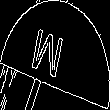M_S: (36, 24, 74, 86)
